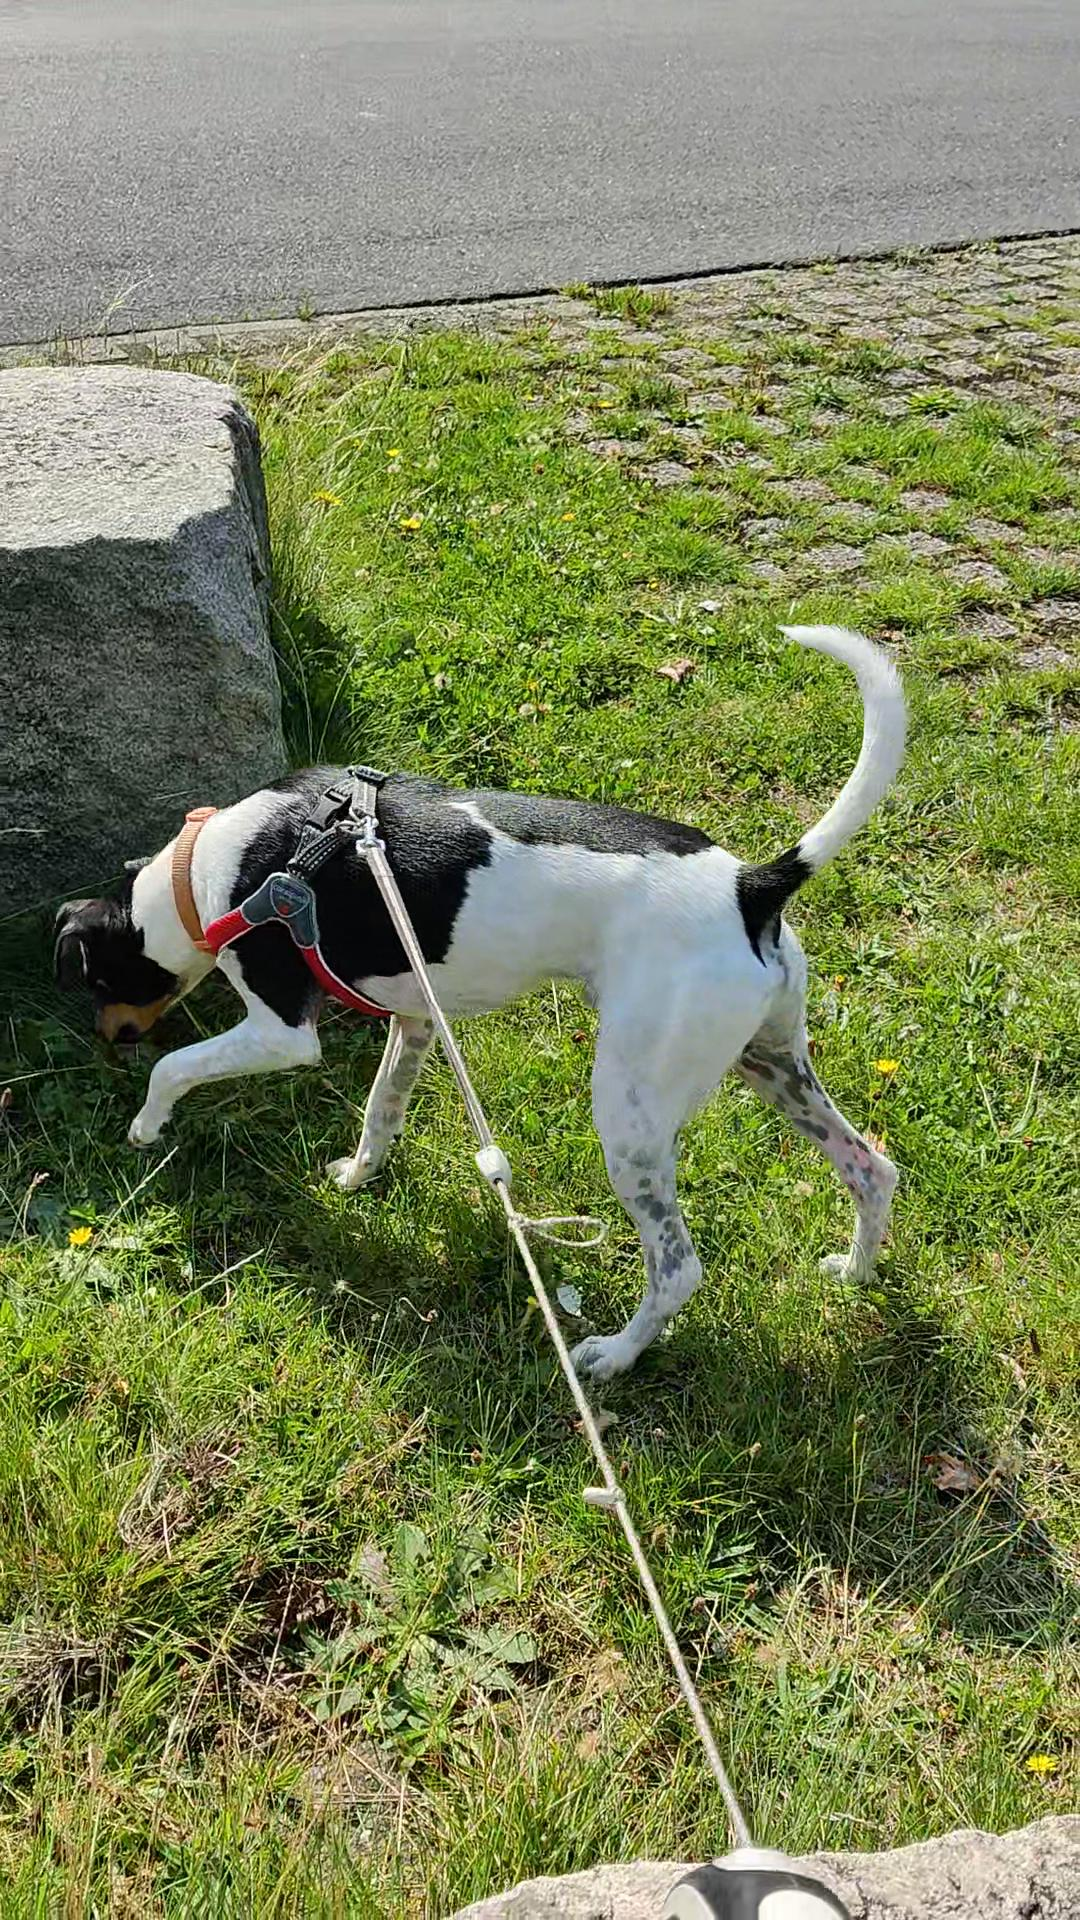Dog: (36, 611, 935, 1393)
